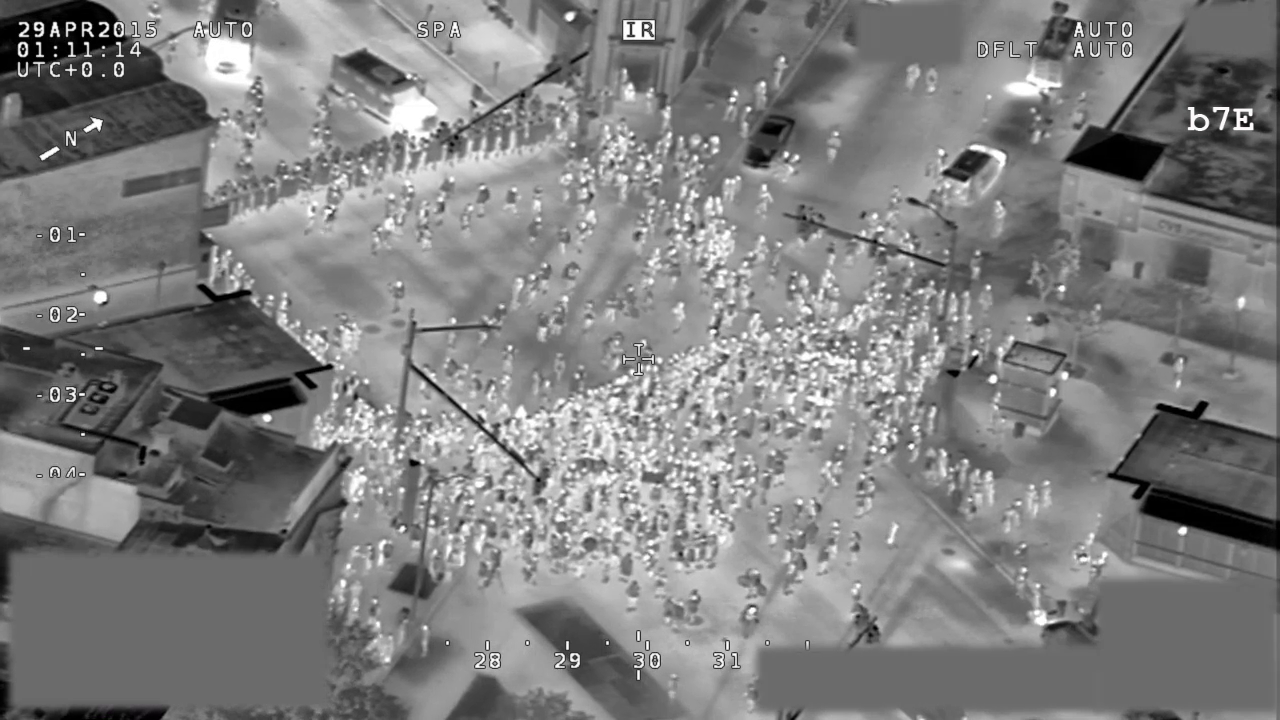vehicle: (320, 41, 443, 142), (1030, 1, 1094, 89), (927, 141, 1010, 208), (199, 1, 265, 81), (739, 114, 796, 173)
